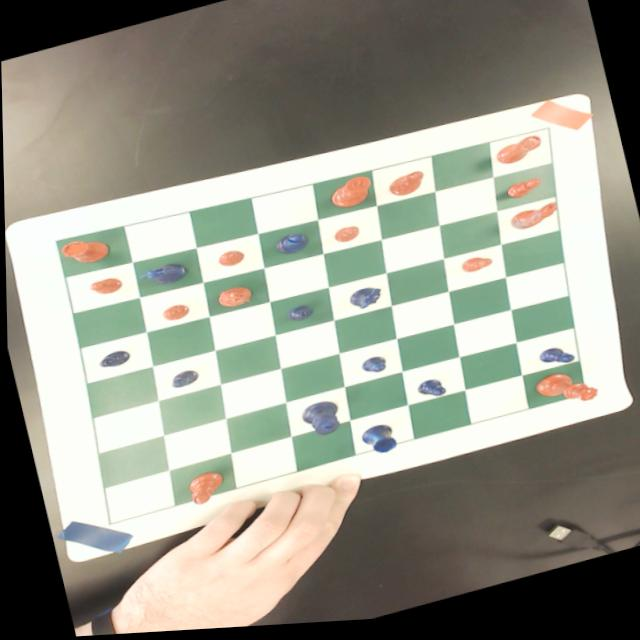B: (270, 233, 309, 262)
K: (295, 401, 341, 444)
N: (134, 261, 187, 293), (346, 288, 382, 316)
P: (535, 348, 574, 377), (94, 348, 130, 372), (411, 381, 445, 406), (163, 369, 198, 392), (356, 357, 387, 382), (285, 306, 313, 328)
R: (354, 425, 395, 464)
b: (180, 469, 227, 512), (384, 174, 426, 203)
k: (324, 177, 374, 217)
n: (505, 206, 563, 240), (211, 284, 253, 314)
p: (501, 181, 544, 207), (85, 274, 122, 301), (457, 258, 491, 280), (213, 250, 244, 272), (330, 227, 359, 248), (158, 304, 187, 325)
q: (528, 370, 598, 420)
r: (56, 232, 112, 272), (491, 139, 543, 175)
